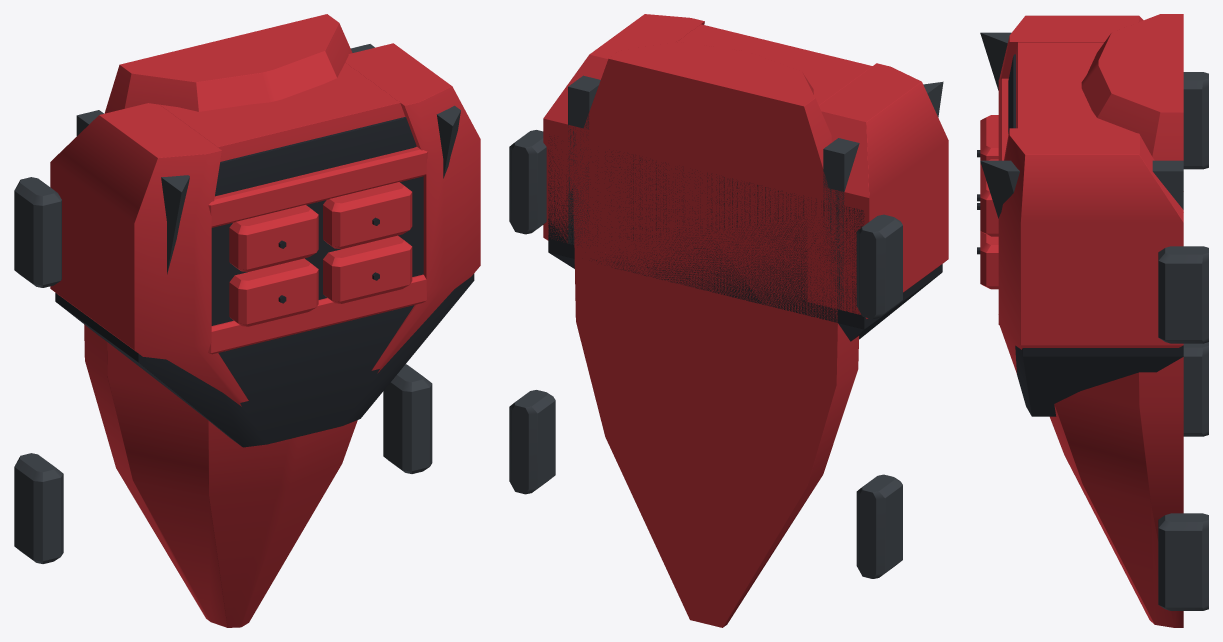
Rendered from ThighFront_Set02_Bastion.fbx.
3 views of the same model, side by side, from view 1: azimuth 30°, elevation 25°; view 2: azimuth 150°, elevation 25°; view 3: azimuth 270°, elevation 25° (orthographic). The views are drawn at different scales.
Parts seen in each view (by area): view 1: ThighFront_Set02_Bastion; view 2: ThighFront_Set02_Bastion; view 3: ThighFront_Set02_Bastion.
Part boxes in pixels (<box>): ThighFront_Set02_Bastion: <box>14,14,480,627</box>; ThighFront_Set02_Bastion: <box>509,14,948,627</box>; ThighFront_Set02_Bastion: <box>977,14,1208,627</box>.
Size of the model in its own units: 0.53 by 0.73 by 0.2756.
